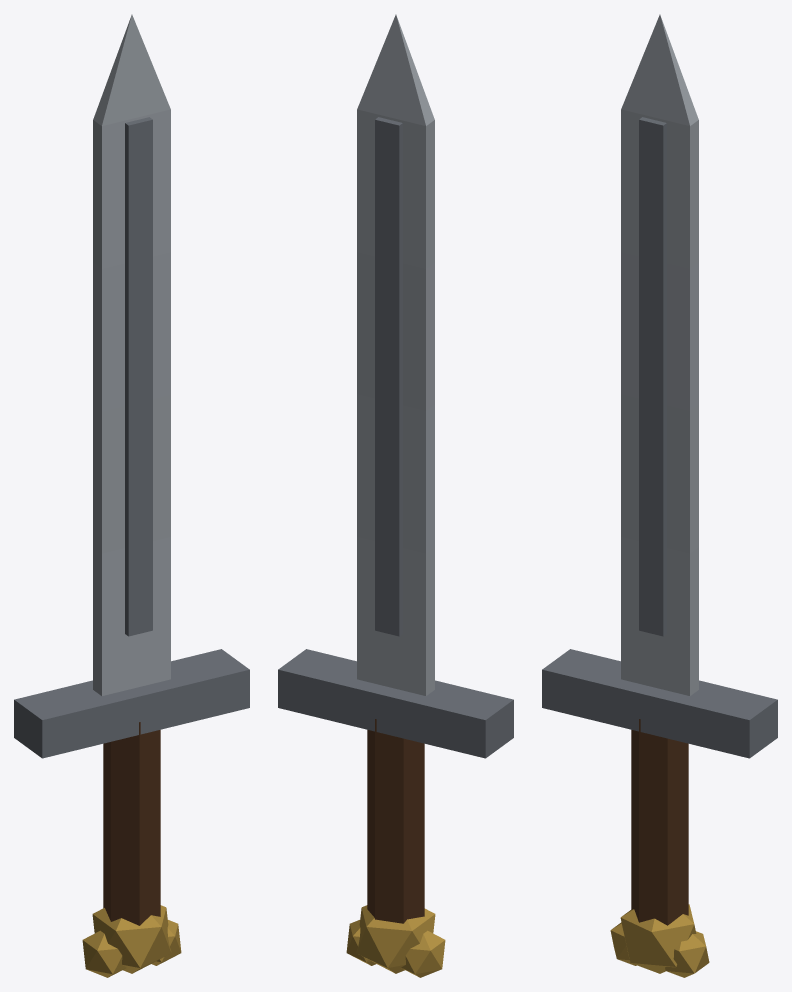
File: weapon_greatsword.glb
The picture shows the model from 3 angles, left to right: view 1: azimuth 30°, elevation 25°; view 2: azimuth 150°, elevation 25°; view 3: azimuth 330°, elevation 25°; orthographic projection.
Visible parts, largest first — view 1: dwarf_weapon_greatsword; view 2: dwarf_weapon_greatsword; view 3: dwarf_weapon_greatsword.
Boxes of the visible parts, left/top/right/bottom form: dwarf_weapon_greatsword: left=14, top=14, right=249, bottom=977; dwarf_weapon_greatsword: left=278, top=14, right=513, bottom=977; dwarf_weapon_greatsword: left=542, top=14, right=777, bottom=977.
Bounding box in the file's own units: 0.204 × 0.9018 × 0.0643.
